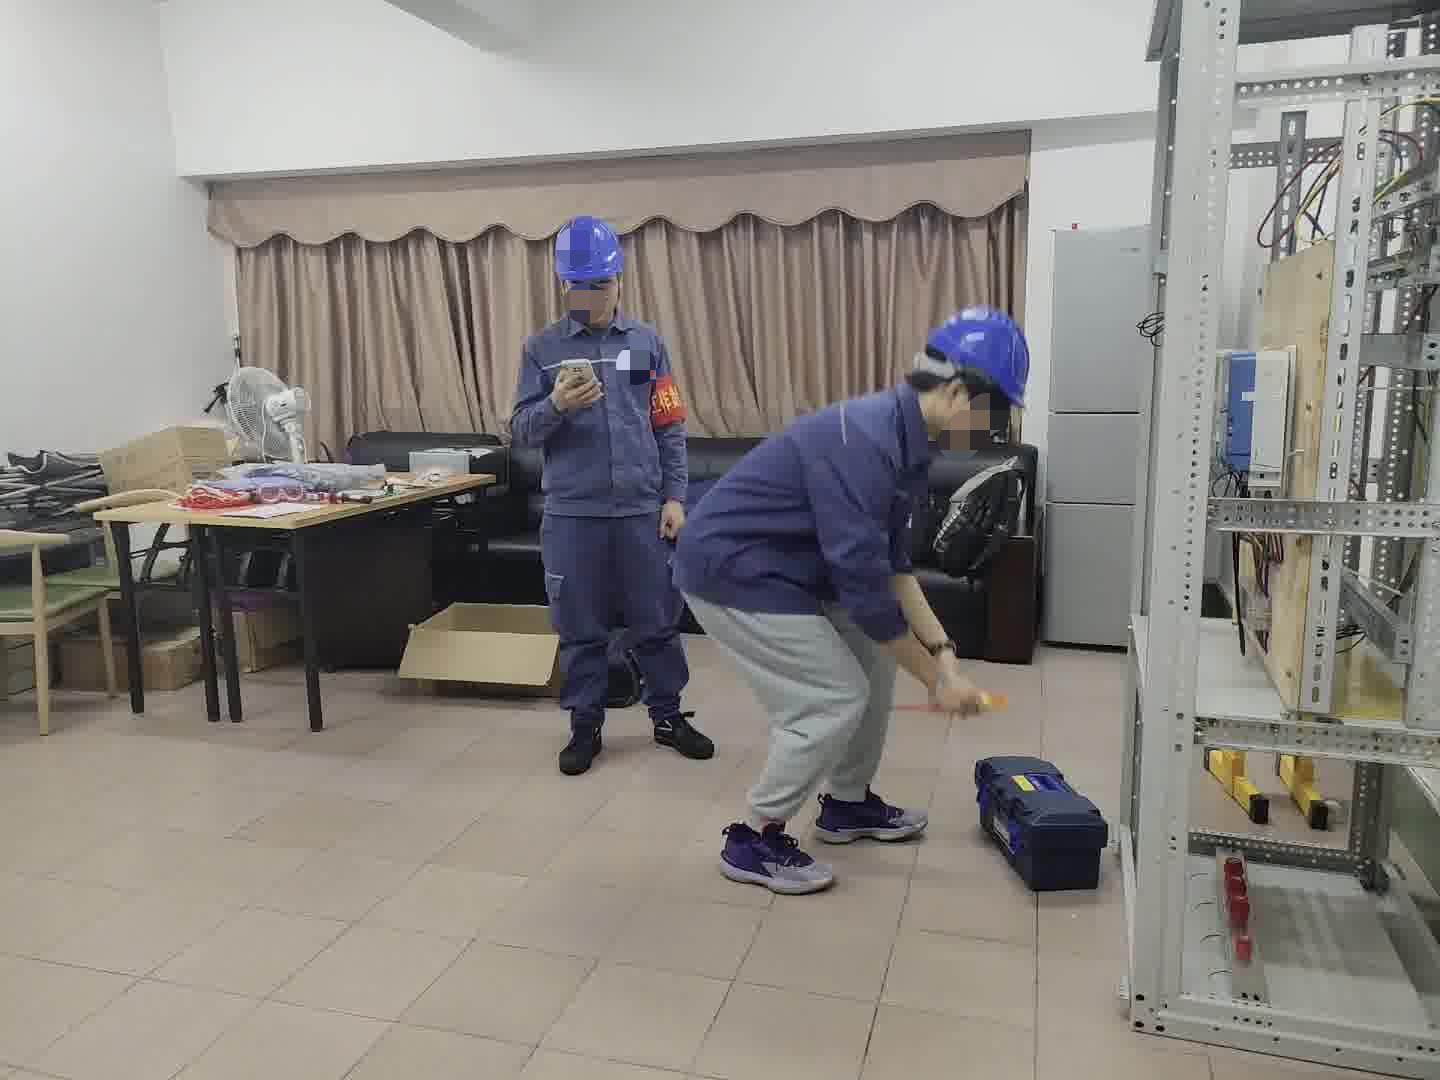halt: (920, 309, 1034, 450), (552, 214, 633, 322)
noear: (931, 377, 986, 442)
